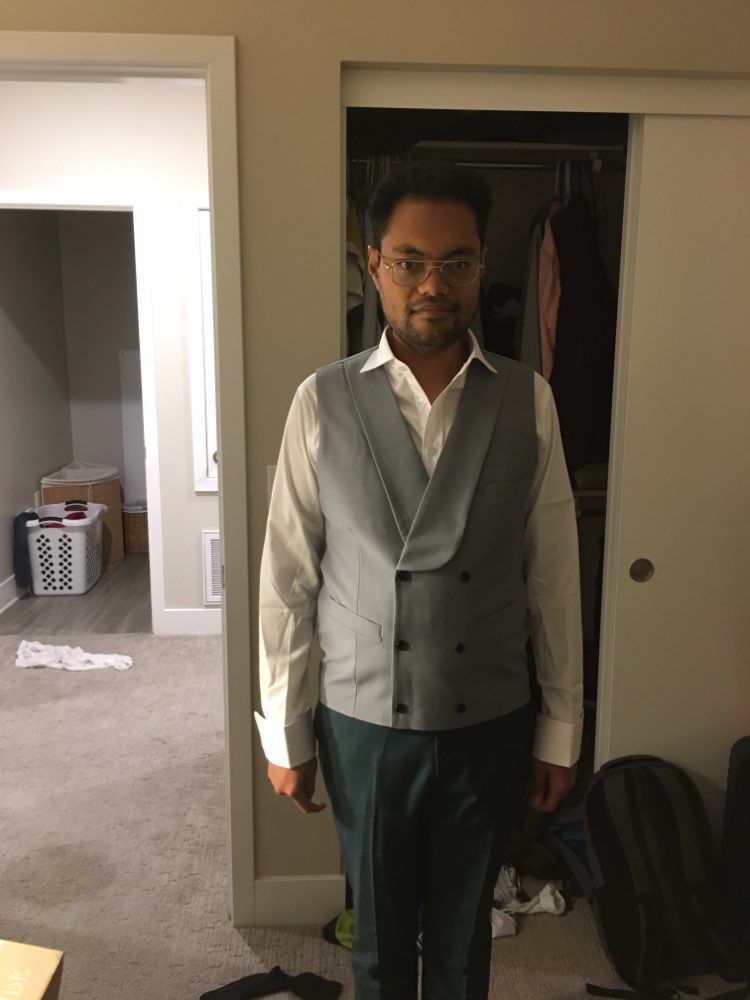shirts: (262, 352, 587, 765)
